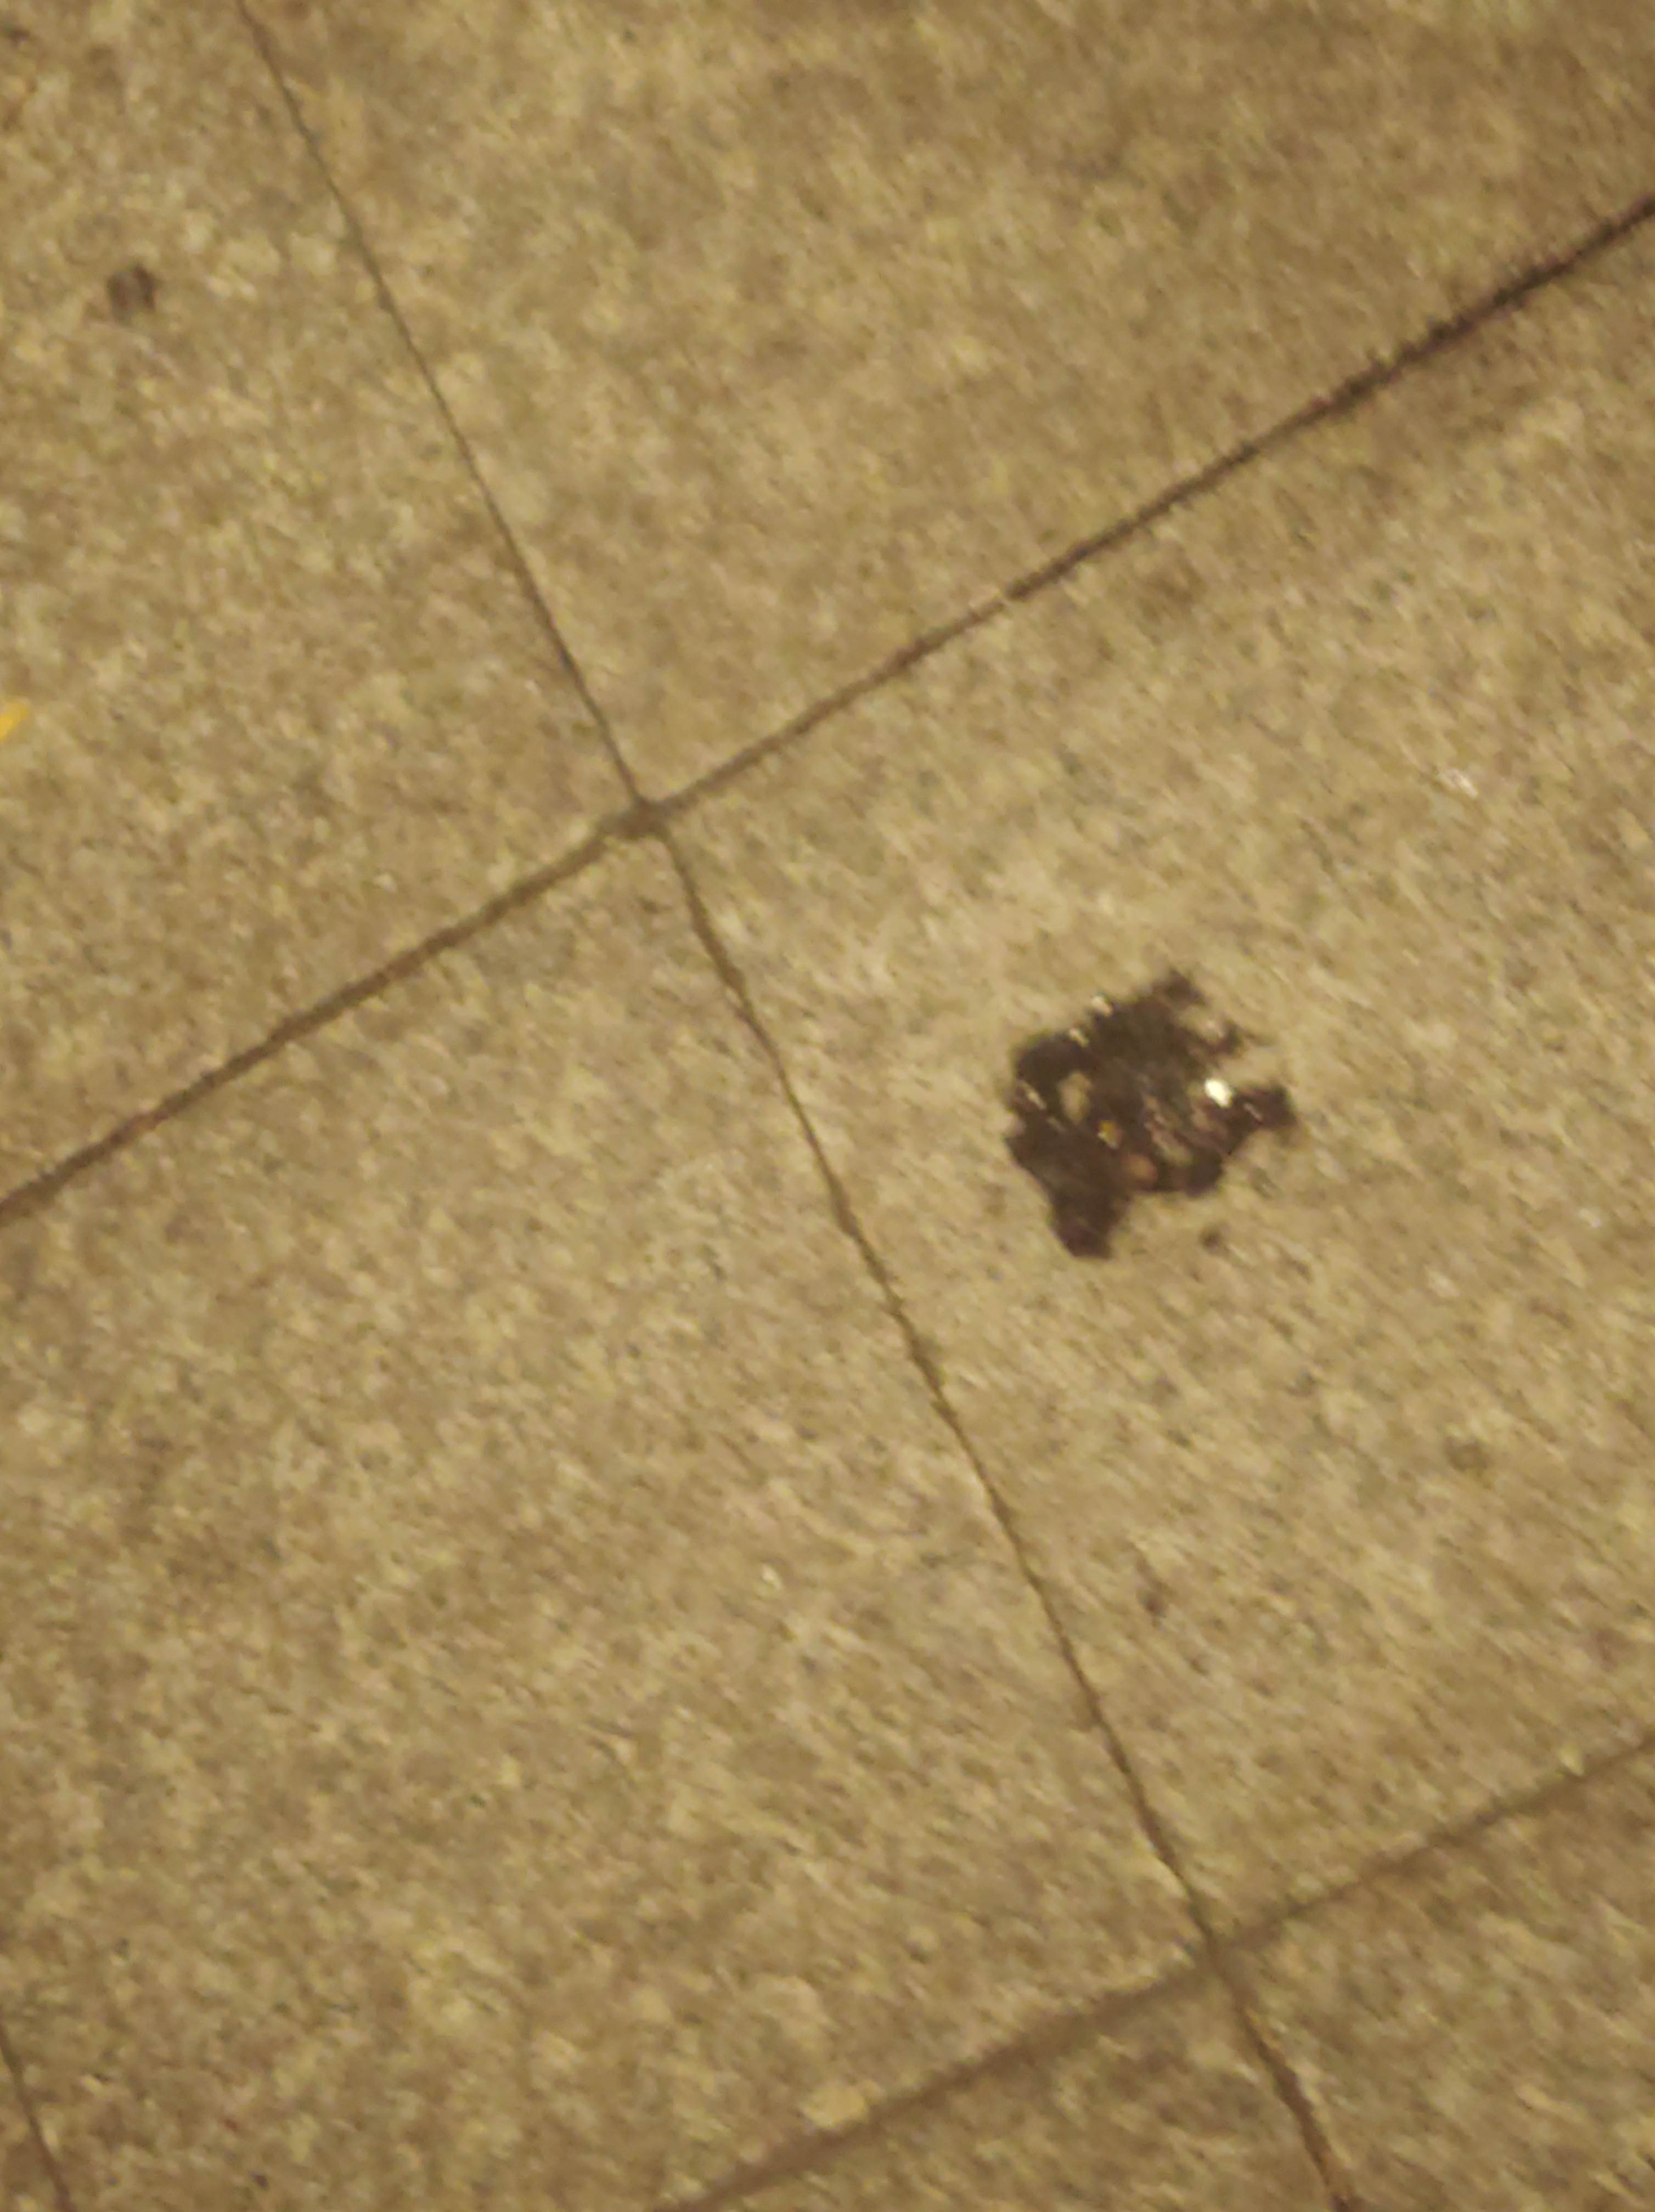grey spot: (1001, 971, 1295, 1258)
